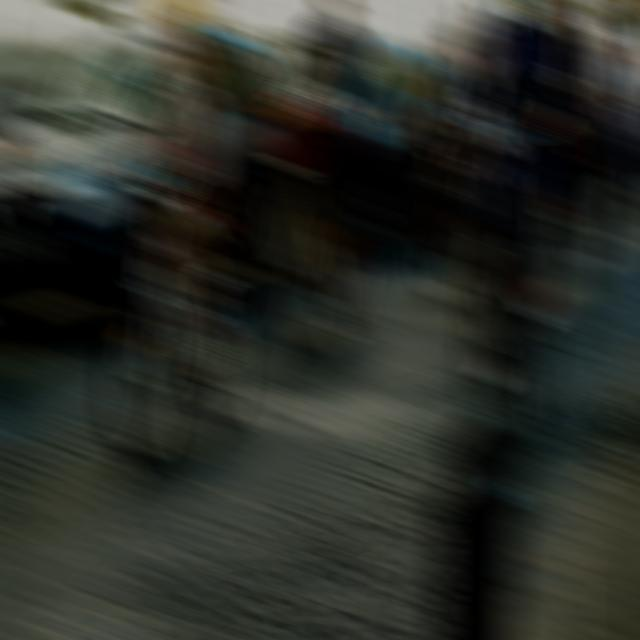Without Helmet: (160, 4, 214, 86)
